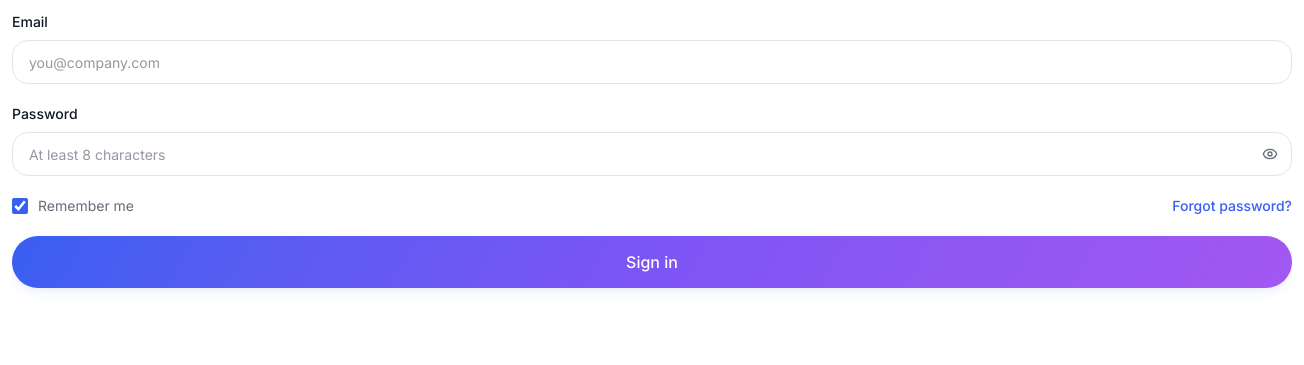
Test: LoginForm › reports both fields when an empty form is submitted
This screenshot has width=1304, height=365.
Click the button "Sign in" at (652, 262), box [12,236,1292,288]
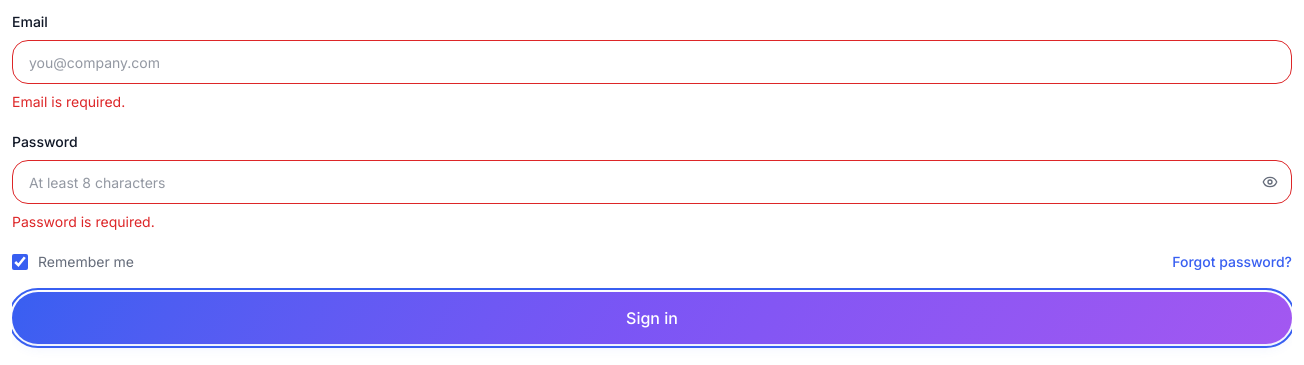
Check: the text "Email is required." is shown, box [12,93,125,110]
Check: the text "Password is required." is shown, box [12,213,155,230]
